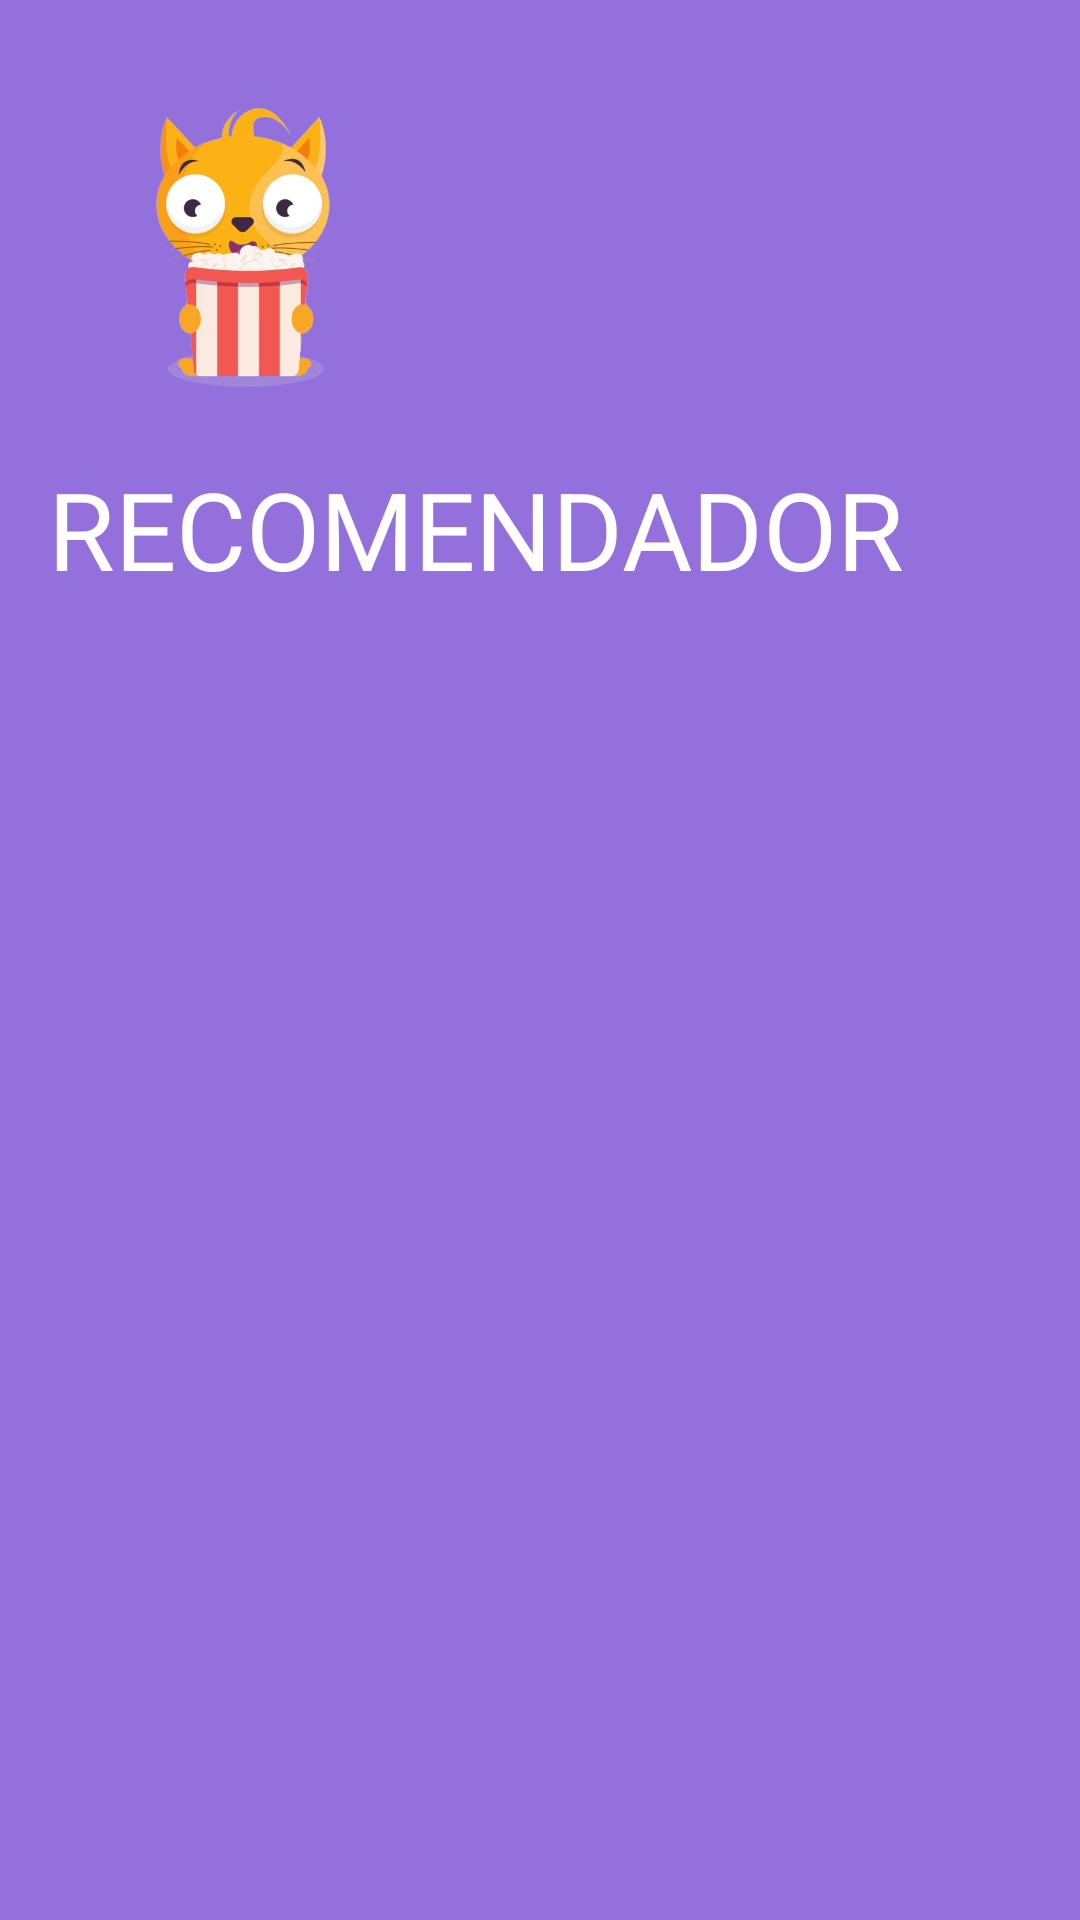

Screen size 1080 × 1920. Icon name, then its box in pixels as [x1, y1, x2, y2]:
gato: [156, 108, 330, 377]
